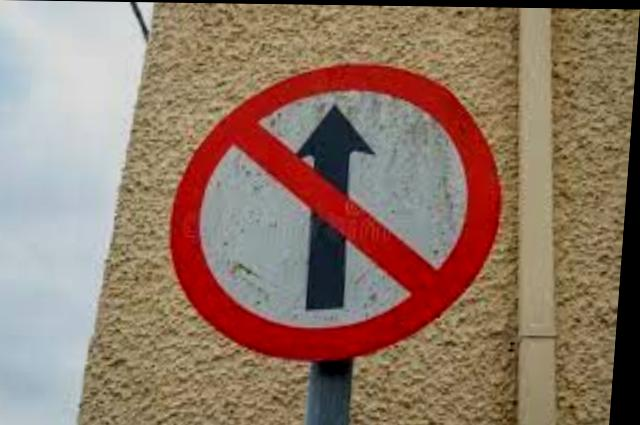not_go_straight: (158, 59, 518, 370)
